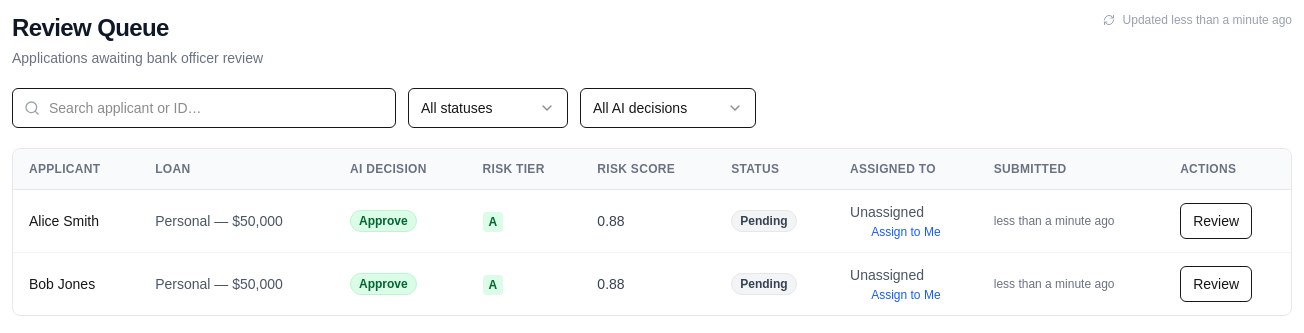
Test case: ReviewQueuePage › search filter › filters items by applicant name
Check: the link "Alice Smith" is shown, box x1=29 y1=213 x2=99 y2=229
Type "Bob" into the field with placeholder "Search applicant or ID…" at x=204, y=108, box x1=12 y1=88 x2=396 y2=128
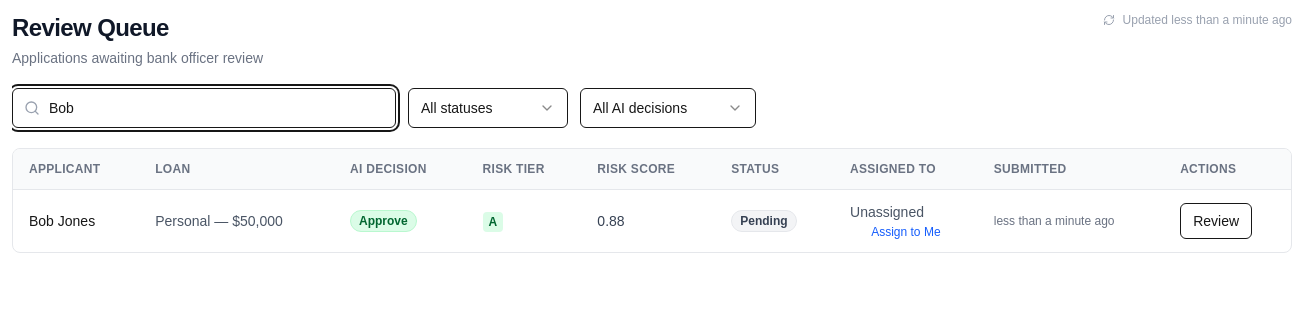
Check: the link "Bob Jones" is shown, box x1=29 y1=213 x2=95 y2=229
Check: the link "Alice Smith" is gone
